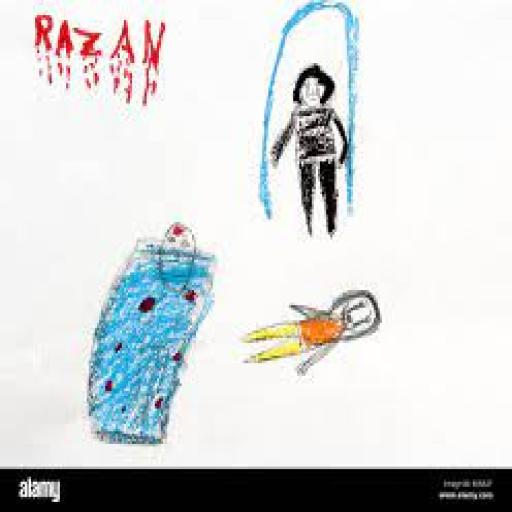person: (270, 60, 365, 252), (241, 277, 393, 385)
